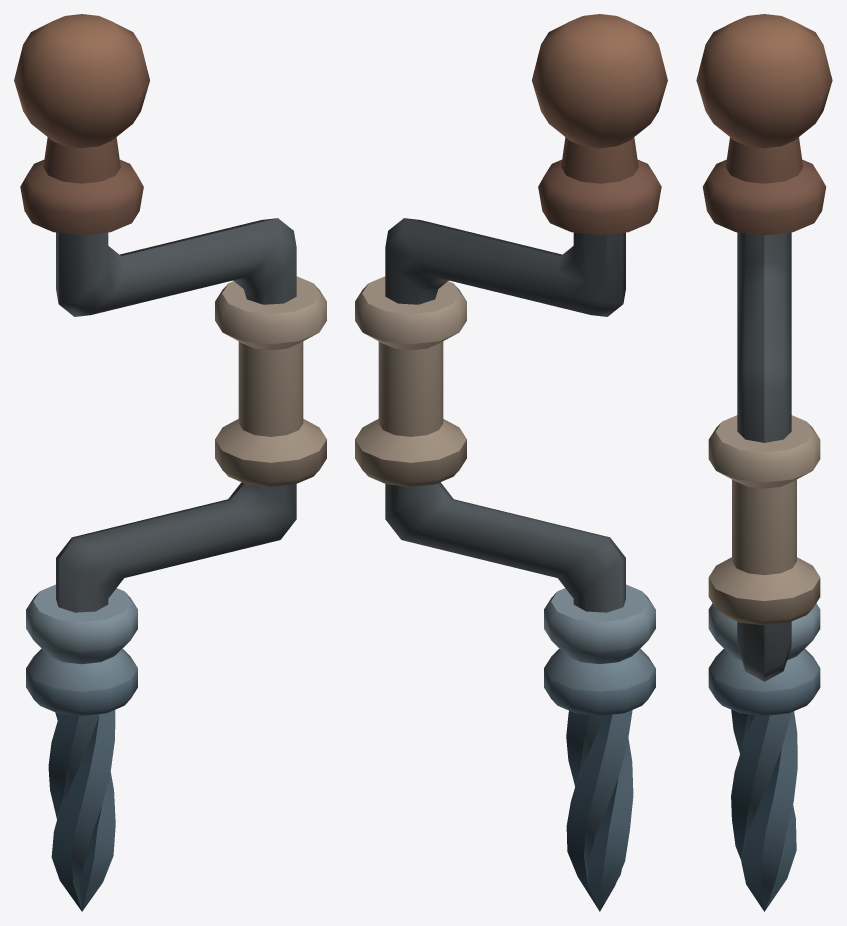
The model's file is handdrill.fbx.
3 views of the same model, side by side, from view 1: azimuth 30°, elevation 25°; view 2: azimuth 150°, elevation 25°; view 3: azimuth 270°, elevation 25° (orthographic).
Parts seen in each view (by area): view 1: handdrill; view 2: handdrill; view 3: handdrill.
Part boxes in pixels (left/top/right/bottom): handdrill: left=14, top=14, right=326, bottom=911; handdrill: left=355, top=14, right=667, bottom=911; handdrill: left=696, top=14, right=832, bottom=911.
Size of the model in its own units: 43.7 by 125 by 17.39.
